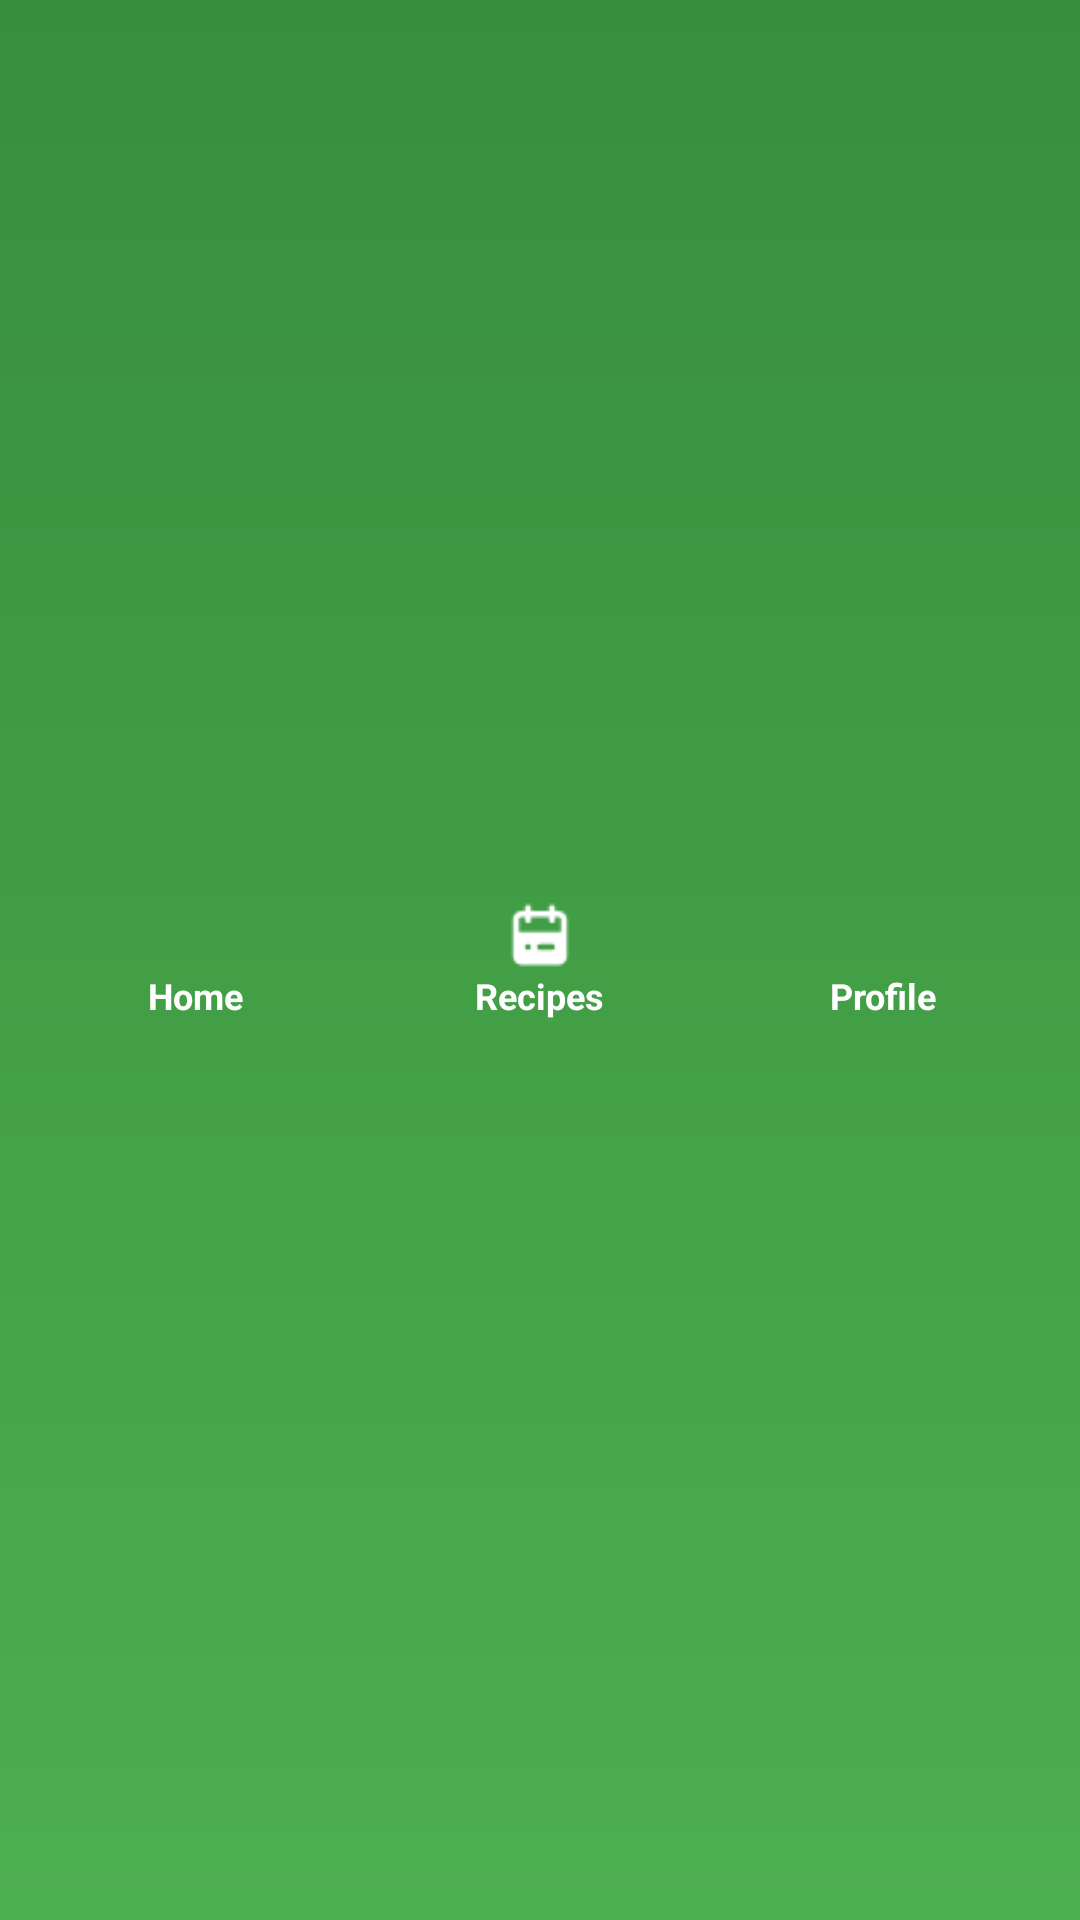

Screen size 1080*1920. Icon name, then its center in pixels as (x,y):
Meal Planner: (540,935)
